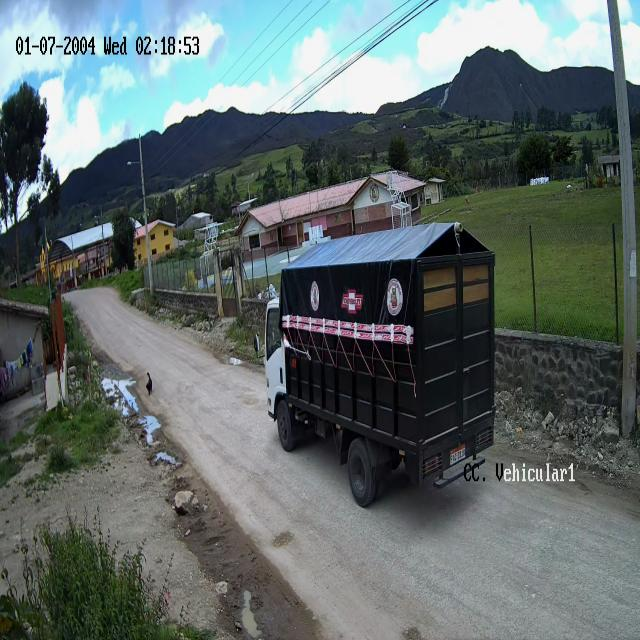TRUCK: (264, 222, 496, 510)
